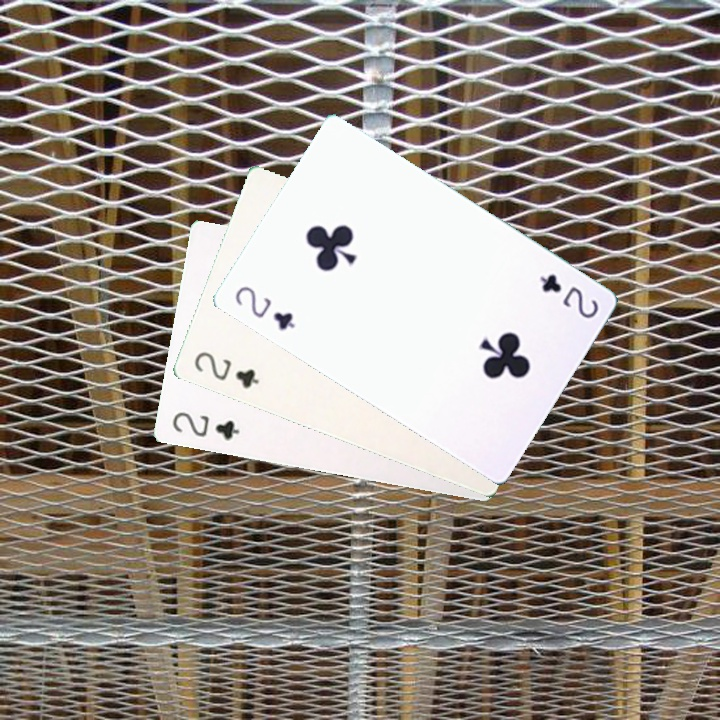2c: (230, 281, 298, 333), (535, 270, 602, 322), (190, 347, 262, 392), (168, 407, 242, 443)
